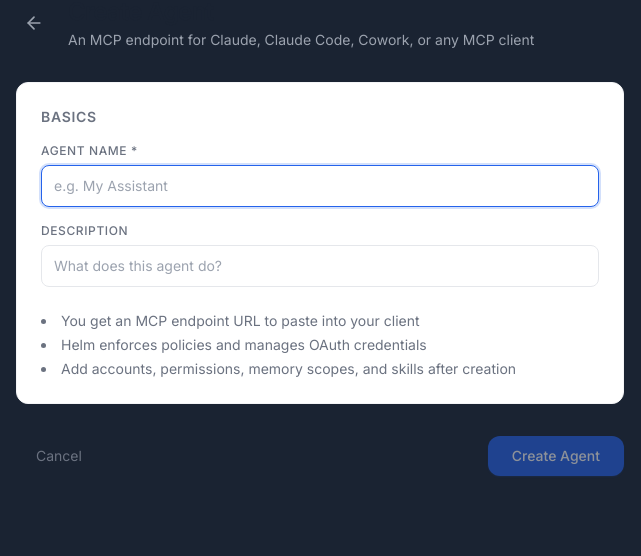
Test: AgentNew › shows the API error
In the field with placeholder "e.g. My Assistant": (320, 186) [41, 165, 599, 207], type "X"
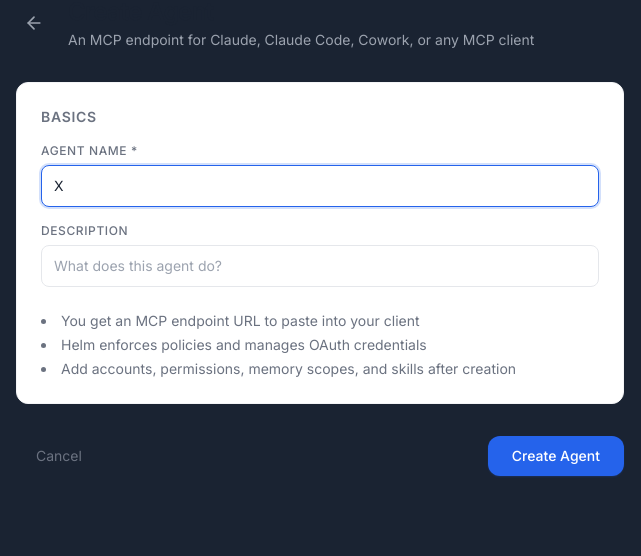
Click the button "Create Agent": click(556, 456) [488, 436, 624, 476]
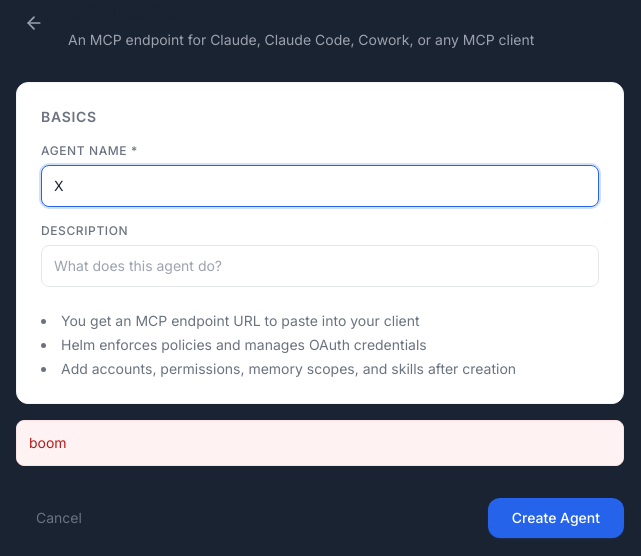
Result: the text "boom" is shown at [16, 420, 624, 466]
